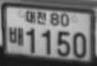0: (72, 31, 87, 58), (59, 12, 69, 27)
1: (24, 27, 39, 54), (40, 28, 54, 55)
5: (55, 29, 71, 56)
8: (49, 11, 59, 26)
대전_H: (24, 9, 47, 26)
배: (7, 25, 24, 45)
